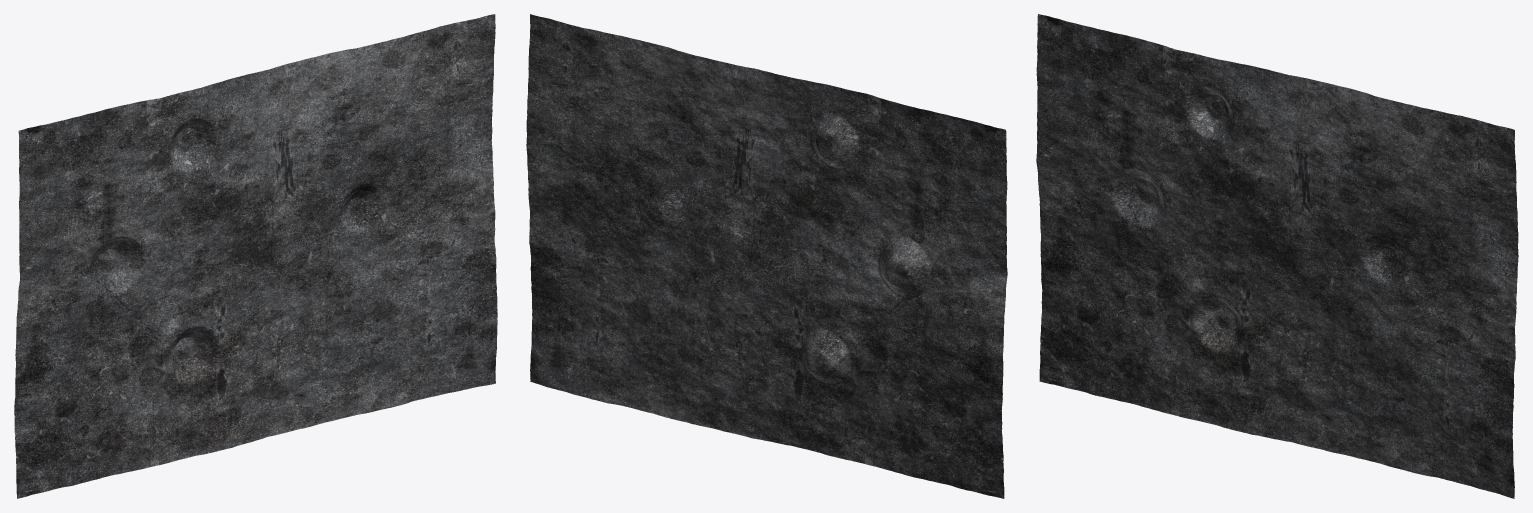
The model's file is ksc-terrain-1.obj.
The picture shows the model from 3 angles, left to right: view 1: azimuth 30°, elevation 25°; view 2: azimuth 150°, elevation 25°; view 3: azimuth 330°, elevation 25°; orthographic projection.
Bounding box in the file's own units: 7.22 × 5.34 × 0.3831.
1 material, 1 textured.
